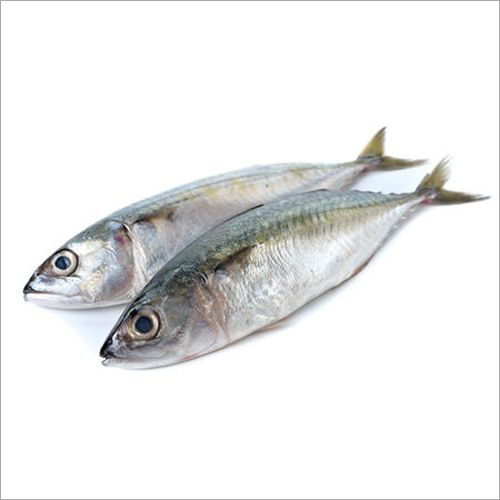Mackerel: (20, 90, 403, 308), (98, 185, 494, 372)
